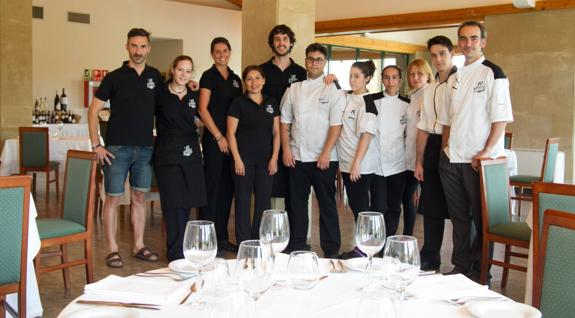person: (448, 22, 512, 157), (99, 20, 161, 145), (286, 46, 345, 155), (202, 35, 242, 150), (339, 57, 382, 159), (232, 67, 281, 156), (159, 50, 201, 152)
